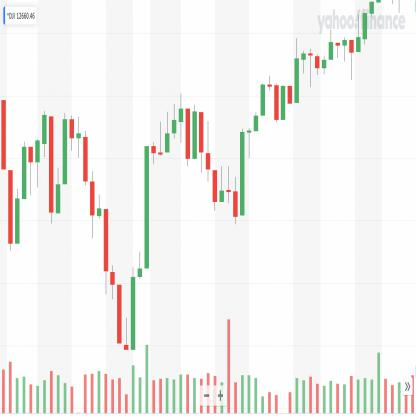Bullish: Inverted Hammer: (116, 263, 137, 355)
